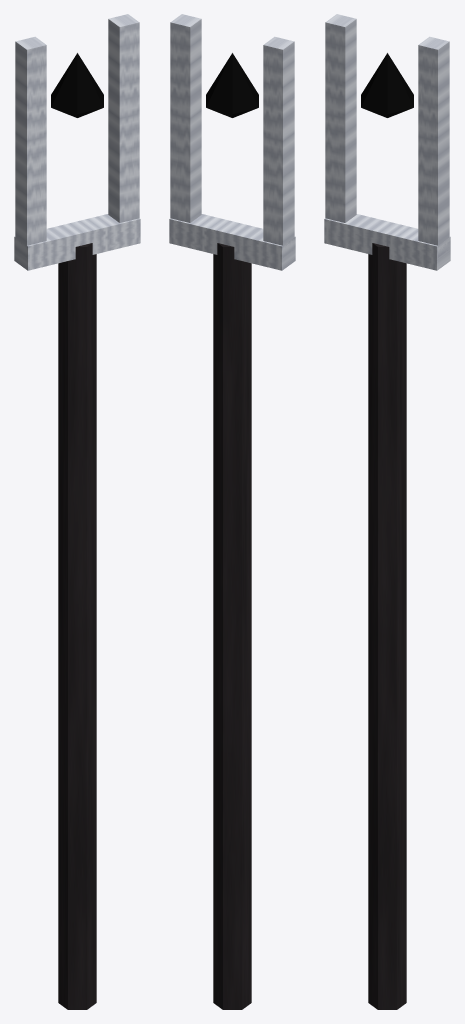
The model's file is rival_fork_staff.obj.
3 renders of one model, left to right at view 1: azimuth 30°, elevation 25°; view 2: azimuth 150°, elevation 25°; view 3: azimuth 330°, elevation 25°, orthographic.
Parts seen in each view (by area): view 1: rival_fork_staff; view 2: rival_fork_staff; view 3: rival_fork_staff.
Boxes of the visible parts, <box> form: rival_fork_staff: <box>14,14,140,1009</box>; rival_fork_staff: <box>169,14,295,1009</box>; rival_fork_staff: <box>324,14,450,1009</box>.
Bounding box in the file's own units: 0.2124 × 1.75 × 0.0866.
